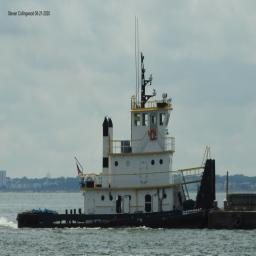tugboat: (16, 49, 225, 236)
